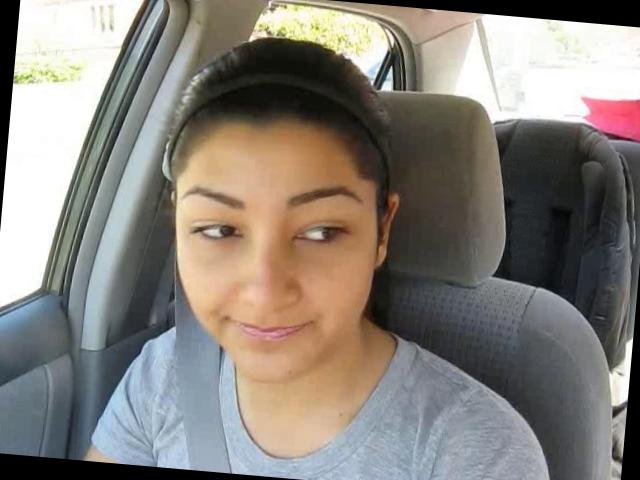eye_open: (292, 213, 356, 254), (185, 212, 248, 250)
face: (156, 154, 380, 388)
